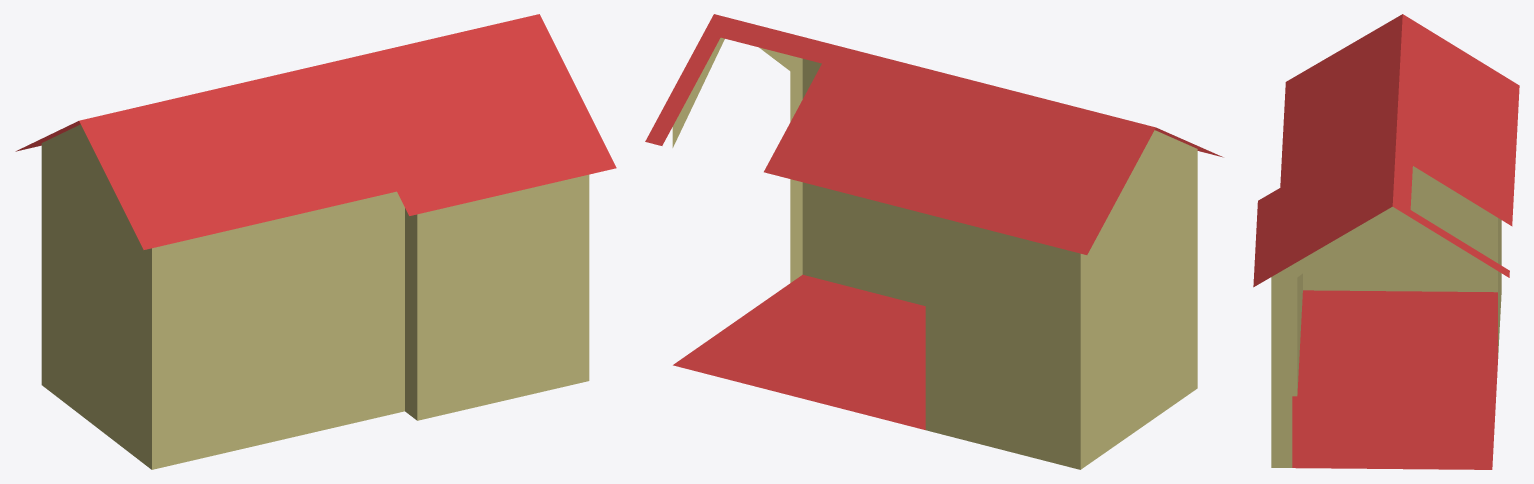
The picture shows the model from 3 angles, left to right: view 1: azimuth 30°, elevation 25°; view 2: azimuth 150°, elevation 25°; view 3: azimuth 270°, elevation 25°; orthographic projection. The views are drawn at different scales.
Size of the model in its own units: 19.67 by 11.36 by 12.71.
